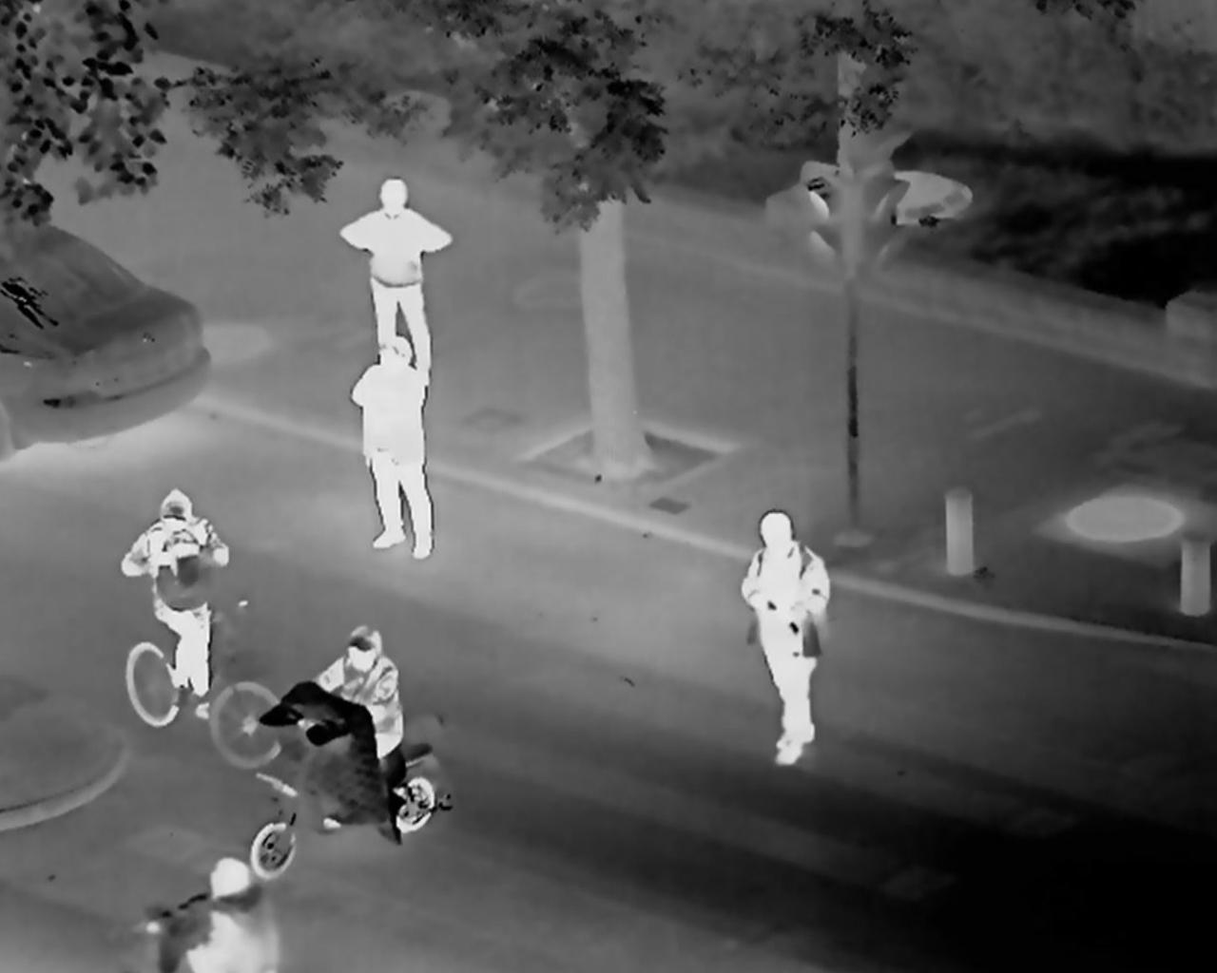person: (318, 322, 446, 546), (739, 494, 839, 755), (119, 486, 249, 675), (341, 168, 447, 319), (330, 637, 405, 749)
